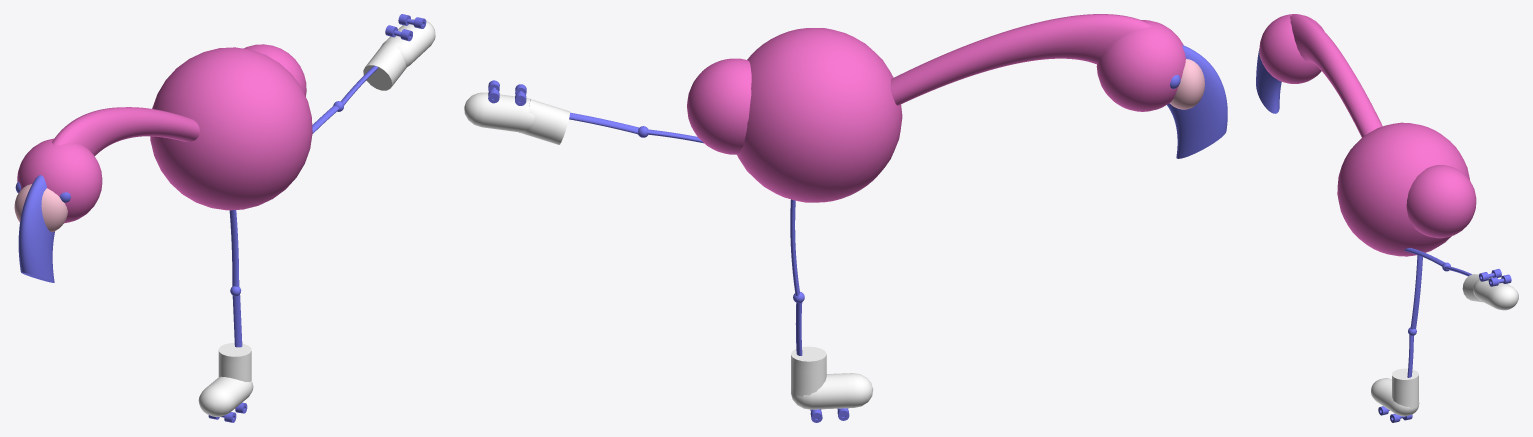
File: Shir Klein flamingo.gltf
3 views of the same model, side by side, from view 1: azimuth 30°, elevation 25°; view 2: azimuth 150°, elevation 25°; view 3: azimuth 270°, elevation 25° (orthographic). The views are drawn at different scales.
Parts seen in each view (by area): view 1: Sphere (×2), Neack, beak, Capsule (×2), Cylinder (×2), Sphere.3, Sphere.1, Torus.5, Torus; view 2: Sphere (×2), Neack, Sphere.1, Capsule (×2), beak, Cylinder (×2), Sphere.3; view 3: Sphere (×2), Sphere.1, Neack, Capsule (×2), Cylinder (×2), beak, Torus.5.
Part boxes in pixels (x1,y1,x2,y2): Sphere (×2): [17, 47, 312, 223]; Neack: [52, 107, 199, 155]; beak: [18, 175, 54, 282]; Capsule (×2): [198, 19, 435, 416]; Cylinder (×2): [218, 40, 406, 381]; Sphere.3: [14, 184, 67, 232]; Sphere.1: [243, 44, 306, 96]; Torus.5: [229, 210, 239, 287]; Torus: [232, 294, 242, 347]; Sphere (×2): [737, 20, 1185, 202]; Neack: [890, 14, 1152, 105]; Sphere.1: [687, 58, 751, 154]; Capsule (×2): [464, 92, 873, 409]; beak: [1167, 45, 1227, 158]; Cylinder (×2): [519, 99, 826, 397]; Sphere.3: [1169, 59, 1204, 109]; Sphere (×2): [1259, 14, 1469, 256]; Sphere.1: [1406, 165, 1476, 238]; Neack: [1290, 14, 1382, 137]; Capsule (×2): [1371, 277, 1518, 416]; Cylinder (×2): [1392, 274, 1482, 408]; beak: [1256, 49, 1281, 113]; Torus.5: [1410, 255, 1422, 329].
Bounding box in the file's own units: 9.51 × 6.24 × 4.71.
